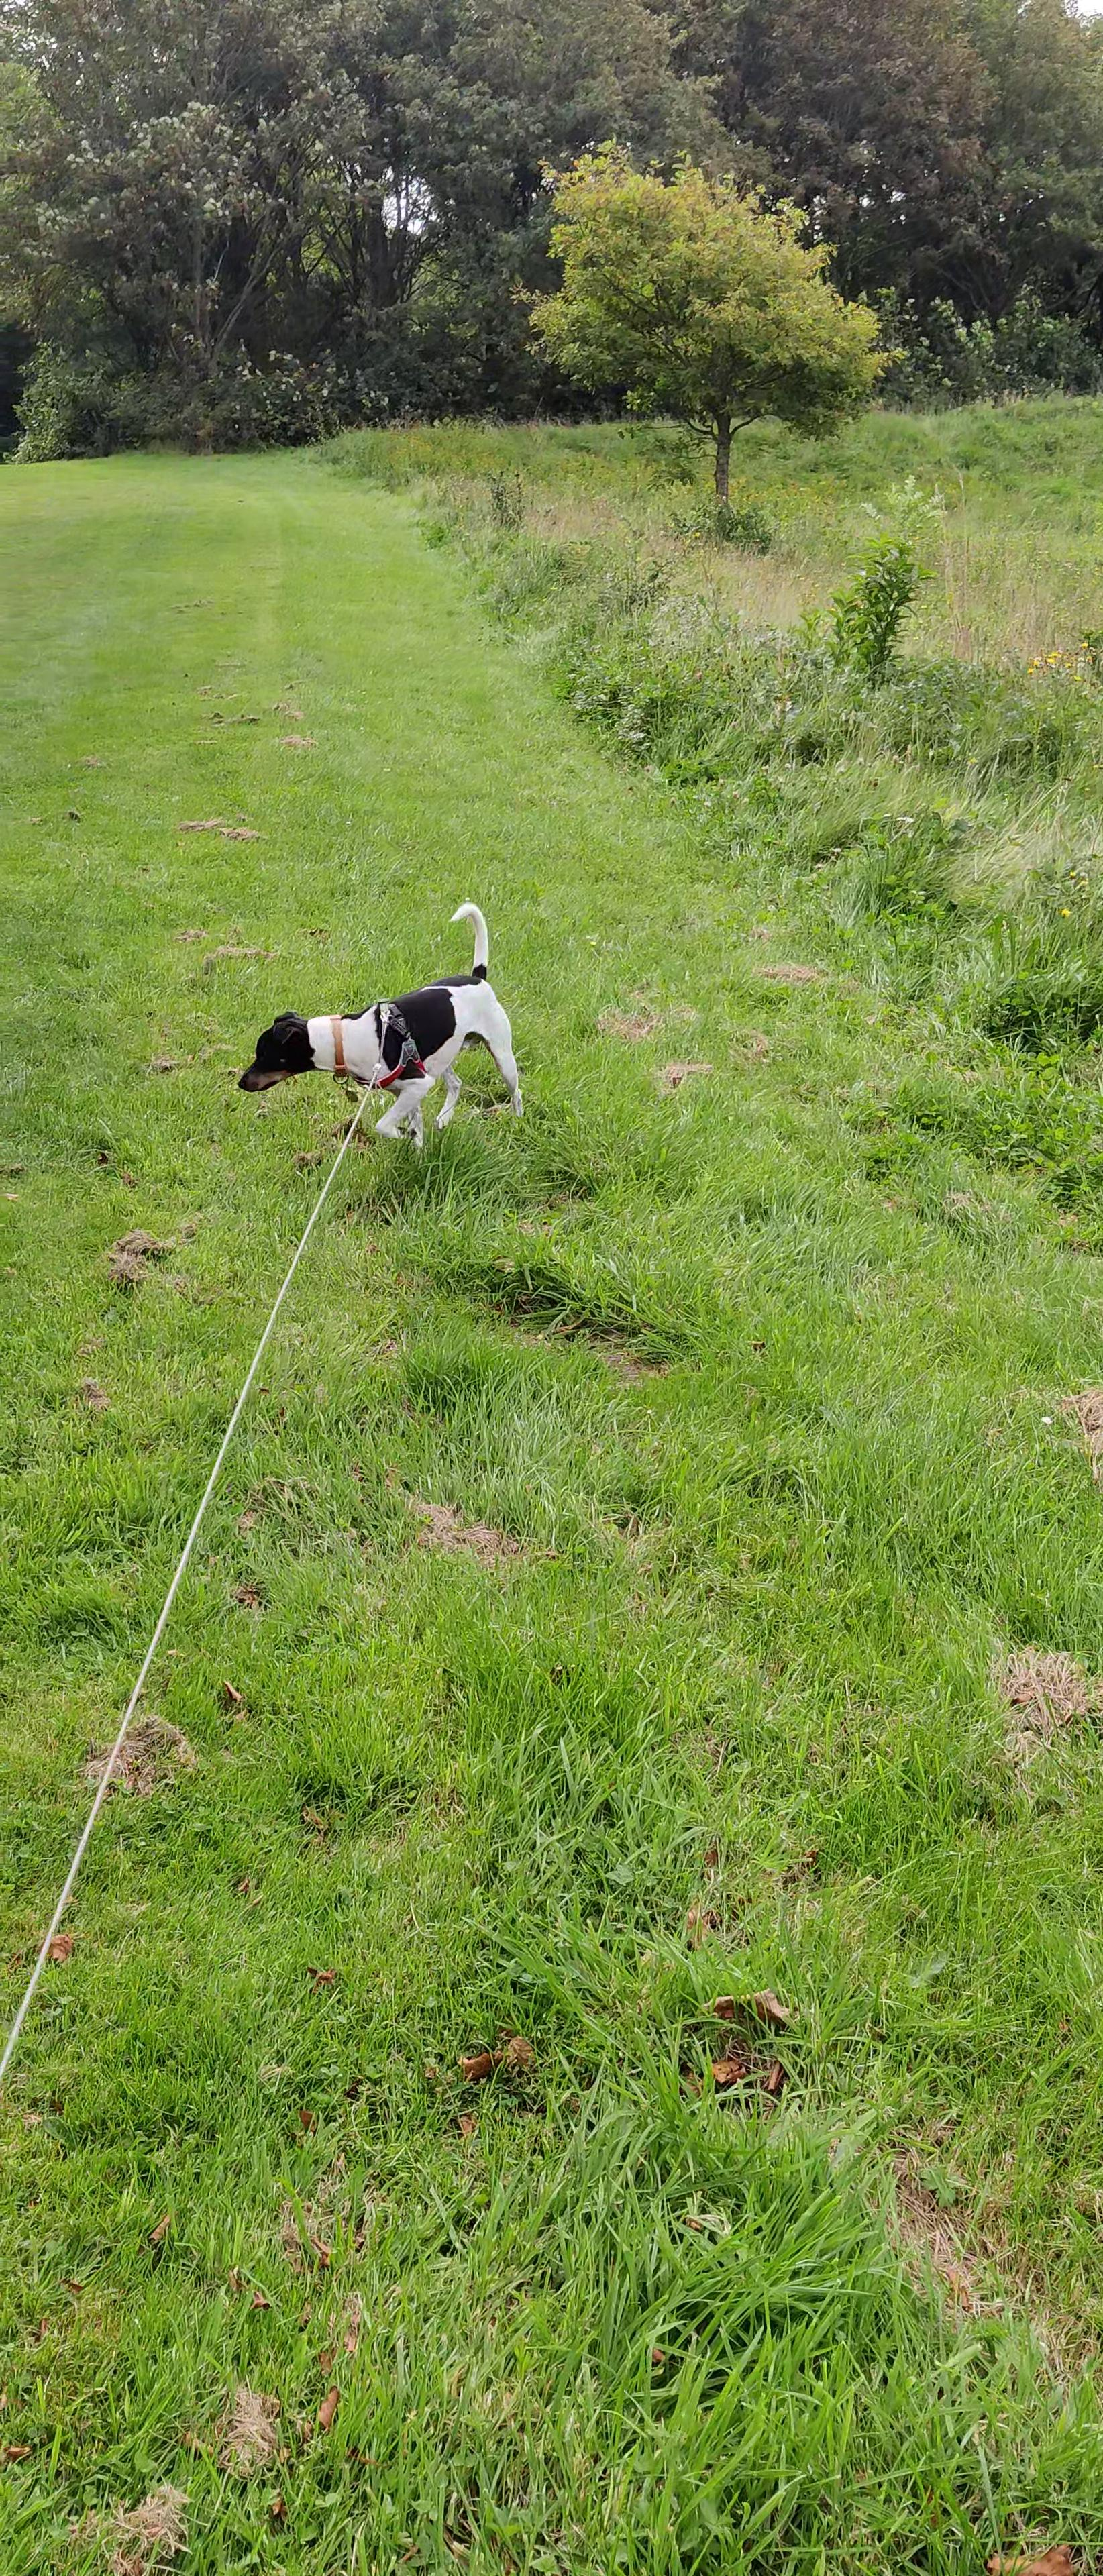Dog: (233, 895, 523, 1150)
